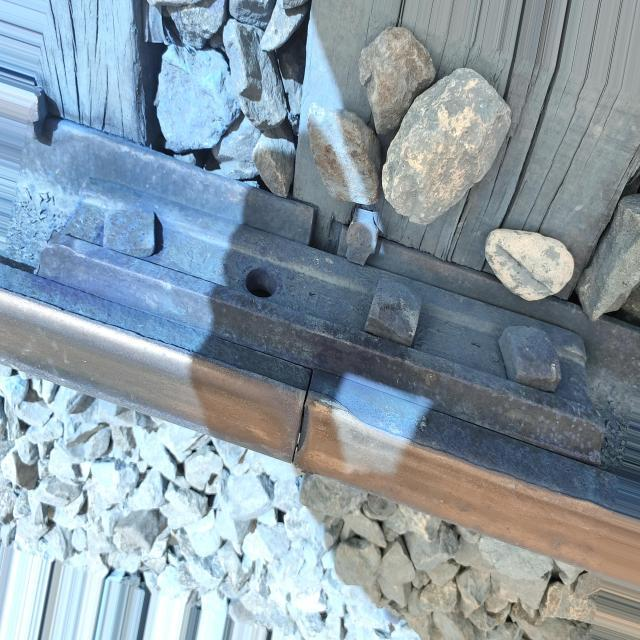Defective Joint: (27, 182, 605, 471)
Good Fasteners: (346, 208, 378, 265)
